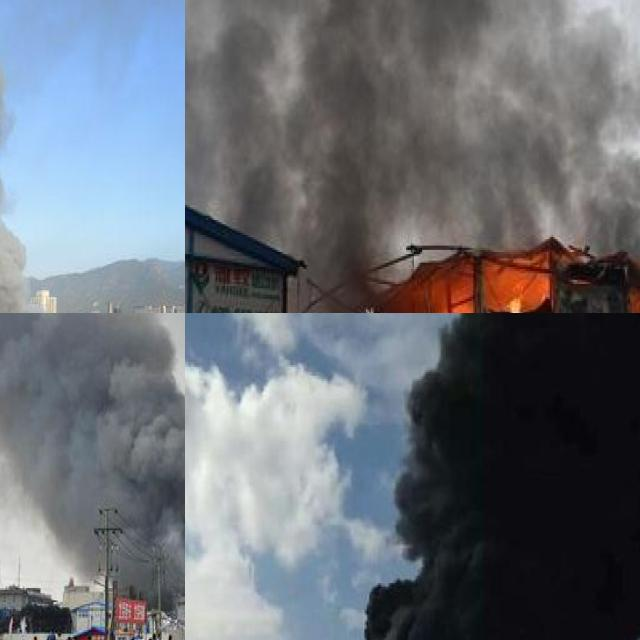fire: (502, 290, 526, 313)
smoke: (185, 0, 640, 313), (312, 313, 640, 640), (0, 313, 185, 611), (0, 2, 97, 313)
